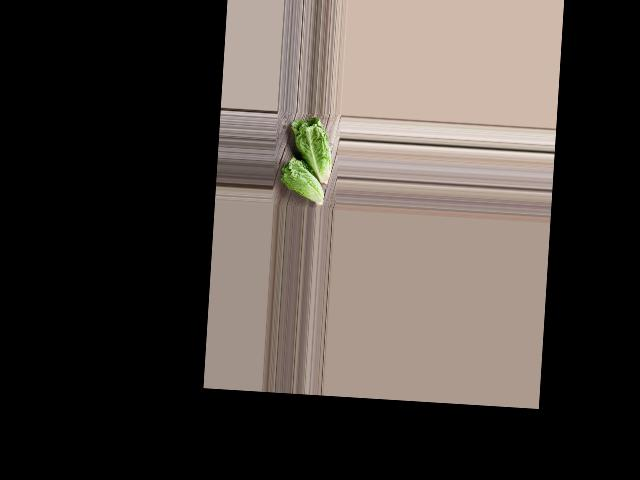lettuce: (274, 155, 328, 208)
